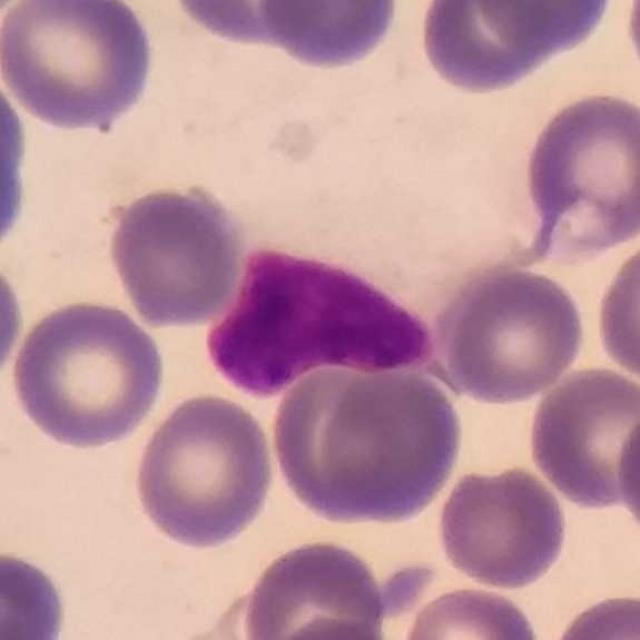Lymphocyte: (199, 239, 444, 399)
RBC: (271, 357, 468, 529), (6, 295, 169, 453), (129, 390, 278, 553), (432, 263, 590, 407), (517, 86, 640, 262), (0, 0, 159, 135), (104, 180, 247, 330), (433, 461, 571, 592), (523, 363, 640, 513), (413, 0, 583, 98), (239, 534, 390, 640), (252, 0, 404, 73), (162, 0, 340, 51), (398, 582, 546, 640), (466, 1, 619, 55), (592, 226, 640, 394), (0, 56, 33, 266), (0, 545, 71, 640), (546, 589, 640, 640), (612, 399, 640, 550), (256, 614, 401, 640), (0, 253, 27, 392), (621, 0, 640, 99)
